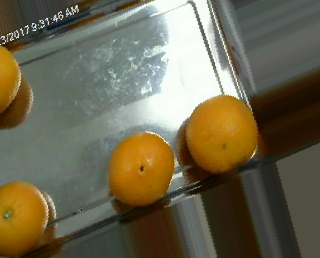Orange: (186, 94, 260, 174), (106, 131, 175, 205)
